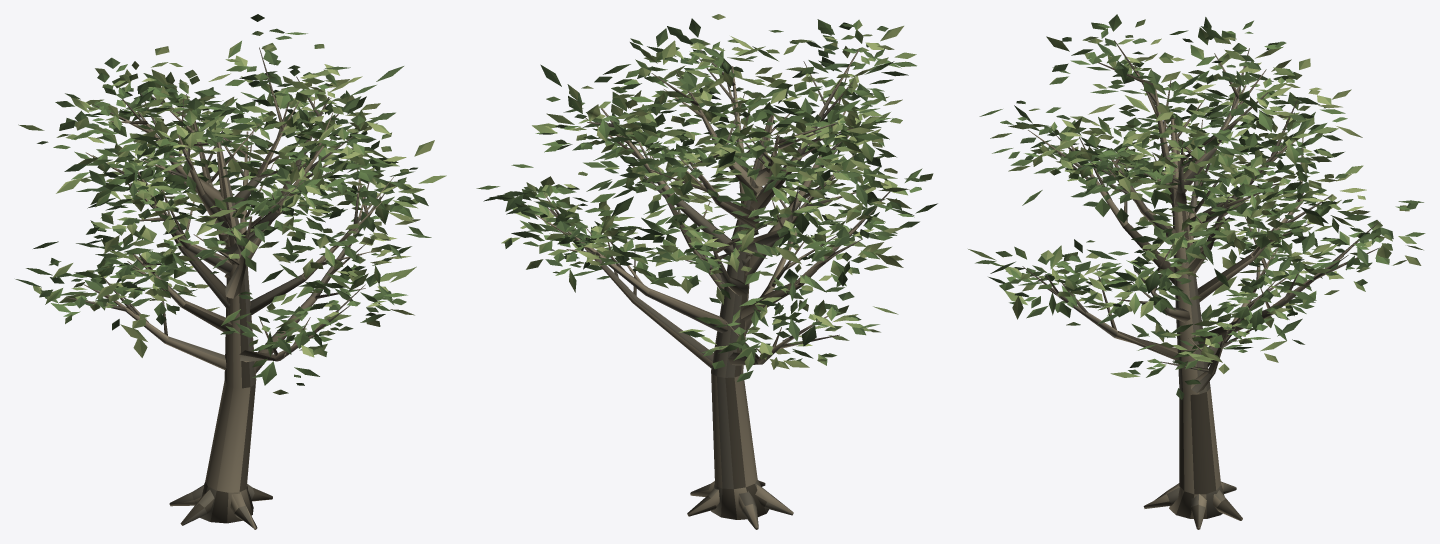
The model's file is valley-broadleaf-canopy.glb.
The picture shows the model from 3 angles, left to right: view 1: azimuth 30°, elevation 25°; view 2: azimuth 150°, elevation 25°; view 3: azimuth 270°, elevation 25°; orthographic projection. The views are drawn at different scales.
Visible parts, largest first — view 1: Layered broadleaf foliage sprays with canopy normals, Broadleaf flared roots and curved limbs; view 2: Layered broadleaf foliage sprays with canopy normals, Broadleaf flared roots and curved limbs; view 3: Layered broadleaf foliage sprays with canopy normals, Broadleaf flared roots and curved limbs.
Part boxes in pixels (left/top/right/bottom): Layered broadleaf foliage sprays with canopy normals: left=15, top=14, right=446, bottom=394; Broadleaf flared roots and curved limbs: left=65, top=47, right=393, bottom=529; Layered broadleaf foliage sprays with canopy normals: left=476, top=14, right=937, bottom=381; Broadleaf flared roots and curved limbs: left=535, top=48, right=889, bottom=529; Layered broadleaf foliage sprays with canopy normals: left=968, top=14, right=1425, bottom=399; Broadleaf flared roots and curved limbs: left=1022, top=40, right=1379, bottom=529.
Bounding box in the file's own units: 5.02 × 5.66 × 5.22.
